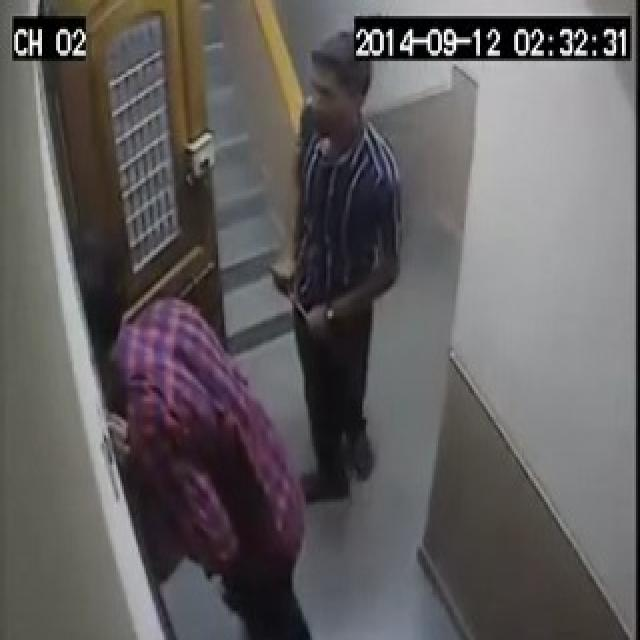thief: (63, 224, 314, 640), (293, 41, 400, 503)
